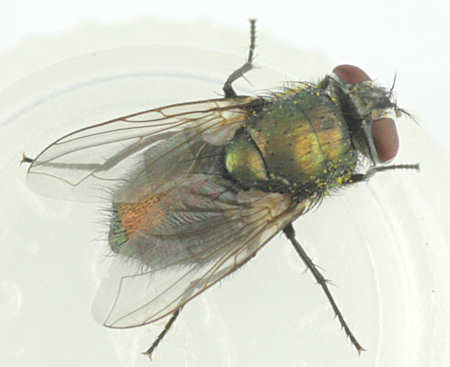green bottles flies: (6, 7, 426, 361)
